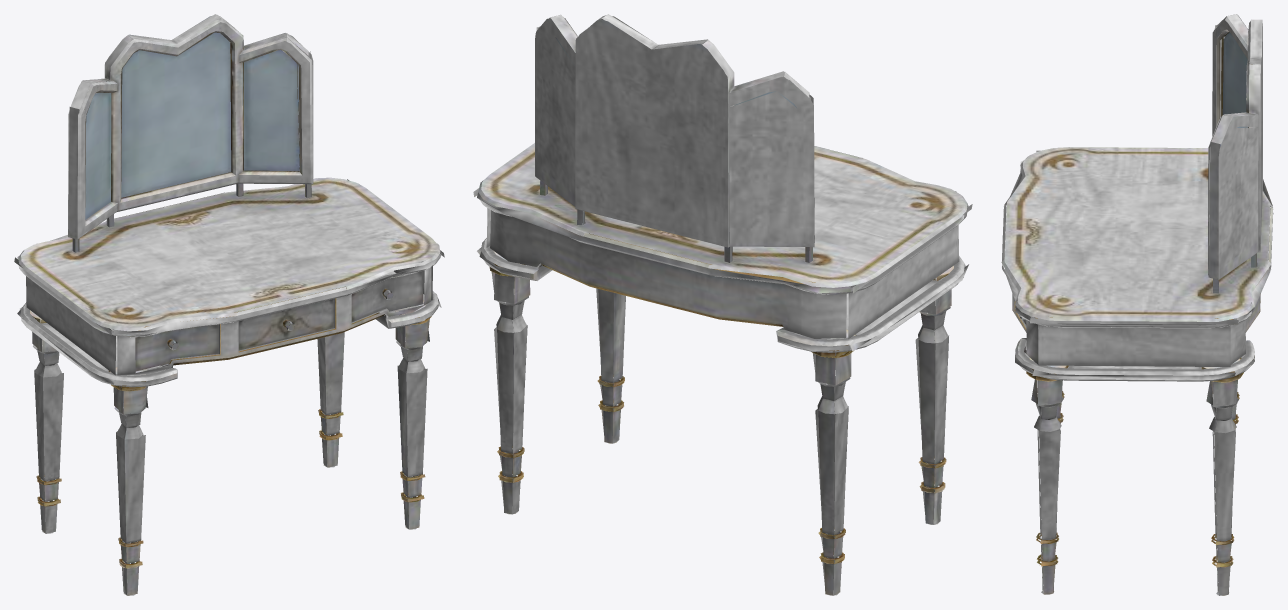
Rendered from dressingtable-1.glb.
3 renders of one model, left to right at view 1: azimuth 30°, elevation 25°; view 2: azimuth 150°, elevation 25°; view 3: azimuth 270°, elevation 25°, orthographic. The views are drawn at different scales.
Parts seen in each view (by area): view 1: g; view 2: g; view 3: g.
Part boxes in pixels (x1,y1,x2,y2): g: (14,14,444,595); g: (473,14,972,595); g: (1001,14,1273,595).
Bounding box in the file's own units: 4.81 × 6.2 × 3.19.
1 material, 1 textured.
